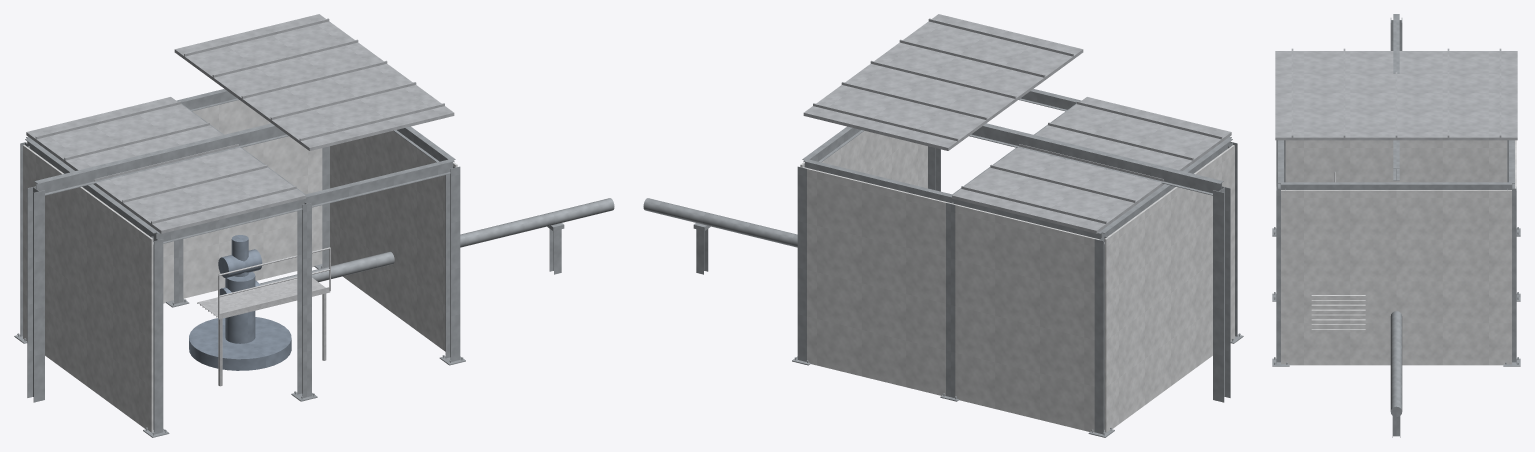
File: co2-storage-enclosures.glb
3 views of the same model, side by side, from view 1: azimuth 30°, elevation 25°; view 2: azimuth 150°, elevation 25°; view 3: azimuth 270°, elevation 25° (orthographic). The views are drawn at different scales.
Parts seen in each view (by area): view 1: WallPanels&Louvres, Lift-offRoofPanels, EnclosureFrame&Runway, Wellhead(context), PipeSupports, ValvePlatform; view 2: WallPanels&Louvres, Lift-offRoofPanels, EnclosureFrame&Runway, PipeSupports; view 3: WallPanels&Louvres, Lift-offRoofPanels, EnclosureFrame&Runway, PipeSupports.
Part boxes in pixels (x1,y1,x2,y2): WallPanels&Louvres: [23, 100, 457, 432]; Lift-offRoofPanels: [26, 14, 454, 233]; EnclosureFrame&Runway: [14, 89, 465, 437]; Wellhead(context): [189, 235, 291, 370]; PipeSupports: [259, 198, 614, 285]; ValvePlatform: [197, 247, 330, 386]; WallPanels&Louvres: [800, 131, 1234, 432]; Lift-offRoofPanels: [803, 14, 1231, 233]; EnclosureFrame&Runway: [792, 89, 1243, 437]; PipeSupports: [643, 198, 797, 274]; WallPanels&Louvres: [1281, 140, 1516, 365]; Lift-offRoofPanels: [1275, 48, 1517, 140]; EnclosureFrame&Runway: [1272, 14, 1520, 366]; PipeSupports: [1390, 311, 1402, 437].
Bounding box in the file's own units: 15.65 × 6.51 × 6.45.
5 materials, 5 textured.
